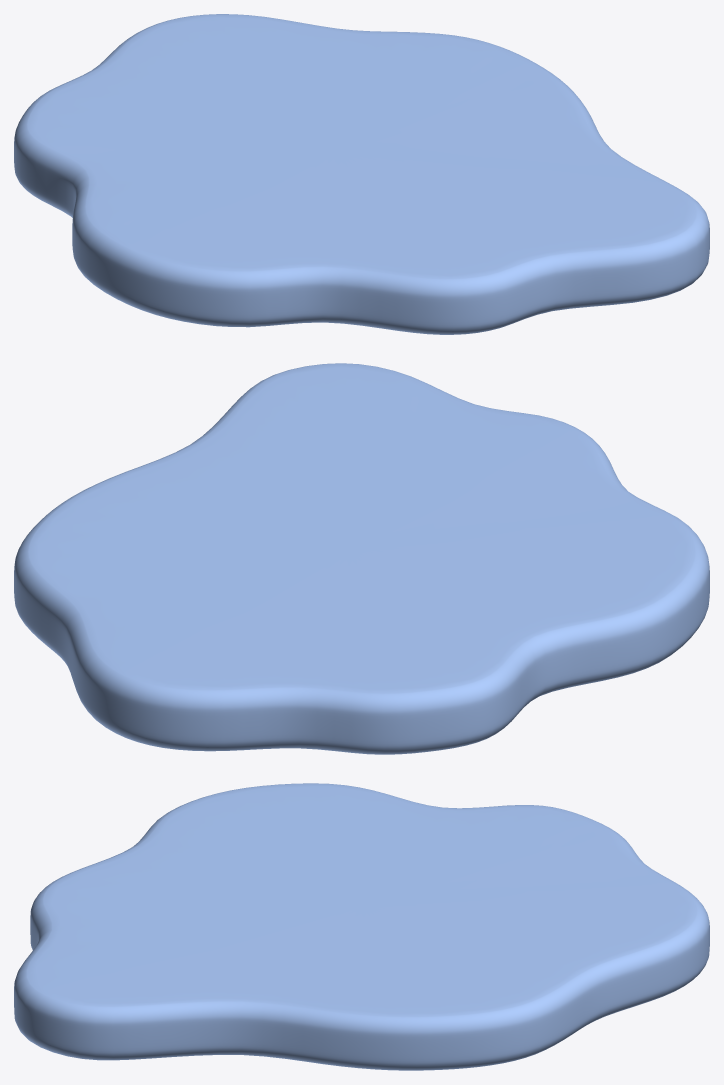
File: cloud1.glb
The picture shows the model from 3 angles, top to bottom: view 1: azimuth 30°, elevation 25°; view 2: azimuth 150°, elevation 25°; view 3: azimuth 270°, elevation 25°; orthographic projection. The views are drawn at different scales.
Bounding box in the file's own units: 1.05 × 0.11 × 1.27.
